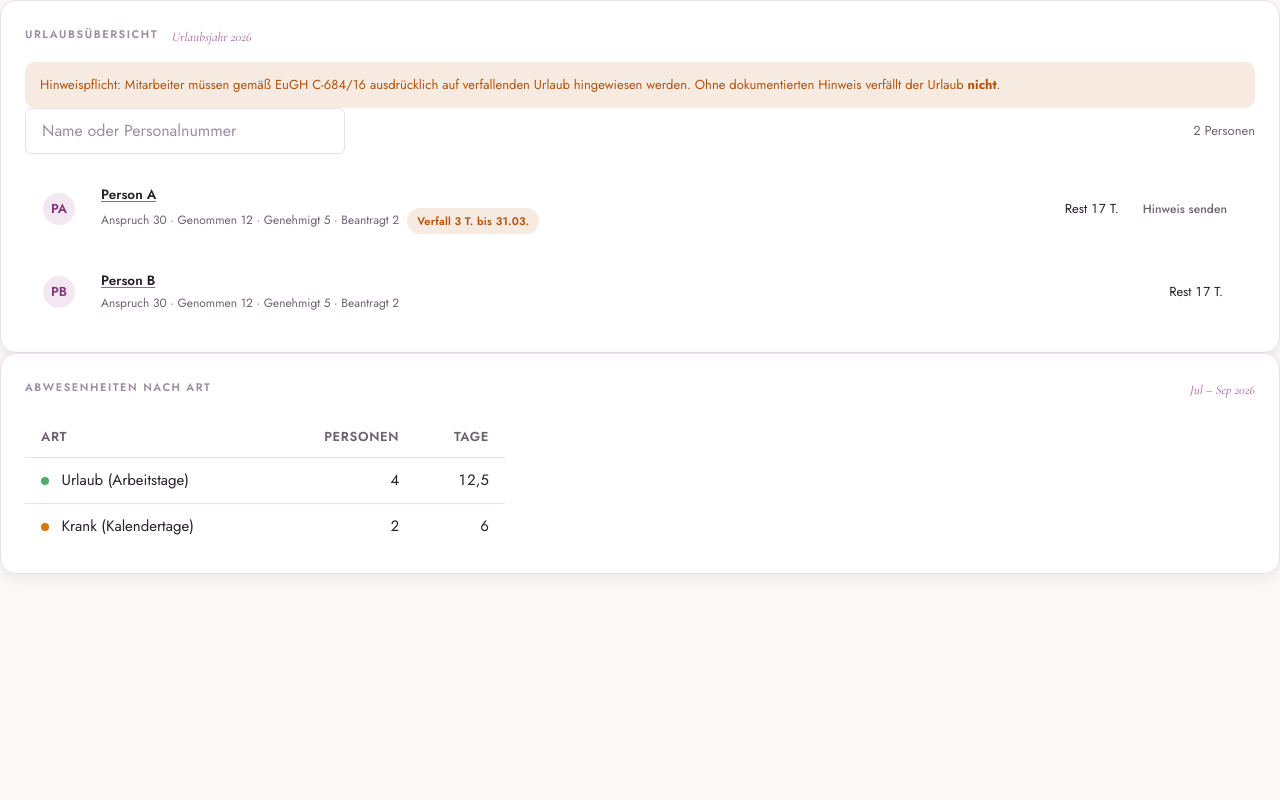
Test: VacationAbsenceTab - narrow viewport (list) › renders an ApprovalRow list with the figures, the Verfall chip and the notice button as a sibling of the link
The width and height of the screenshot is (1280, 800).
Check: the number of list items is 2, box left=25, top=170, right=1255, bottom=248; left=43, top=271, right=1223, bottom=312
Check: the list item that starts with "Person A" shows "Anspruch 30 · Genommen 12 · Genehmigt 5 · Beantragt 2", box left=101, top=211, right=399, bottom=229
Click the button with aria-label "Hinweis senden an Person A" at point(1185, 209), box left=1133, top=187, right=1237, bottom=231
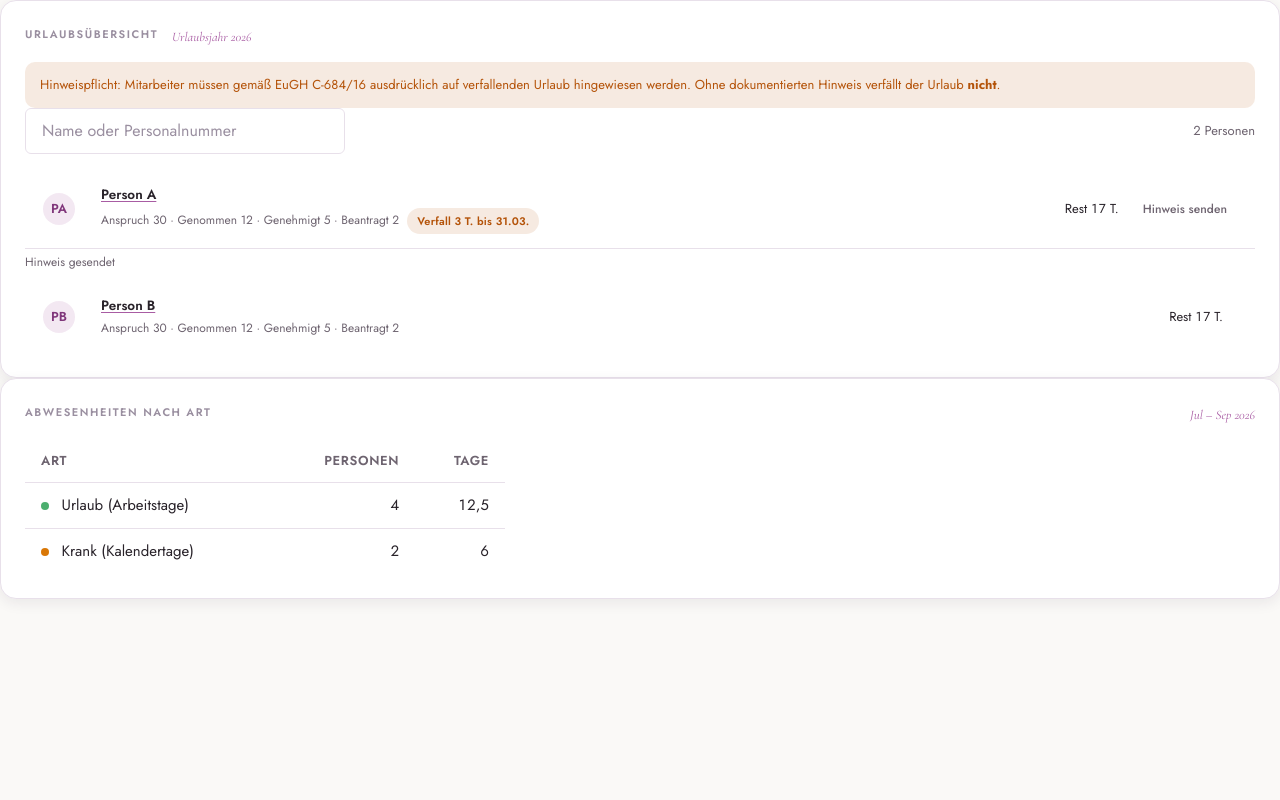
Check: the message reads "Hinweis gesendet", box left=25, top=253, right=115, bottom=271
